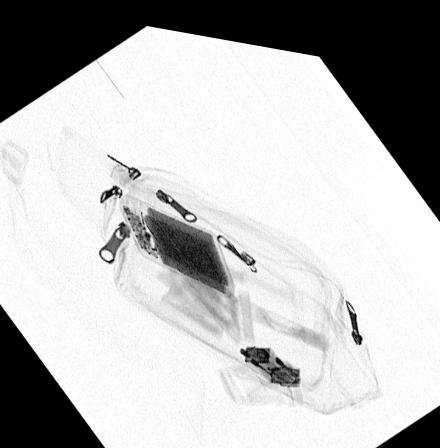Powerbank: (120, 189, 237, 289)
